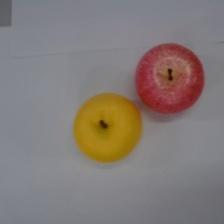red: (135, 43, 204, 114)
yellow: (73, 93, 142, 163)
